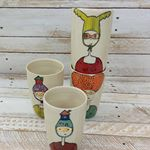cups: (40, 85, 93, 150), (23, 55, 68, 122)
